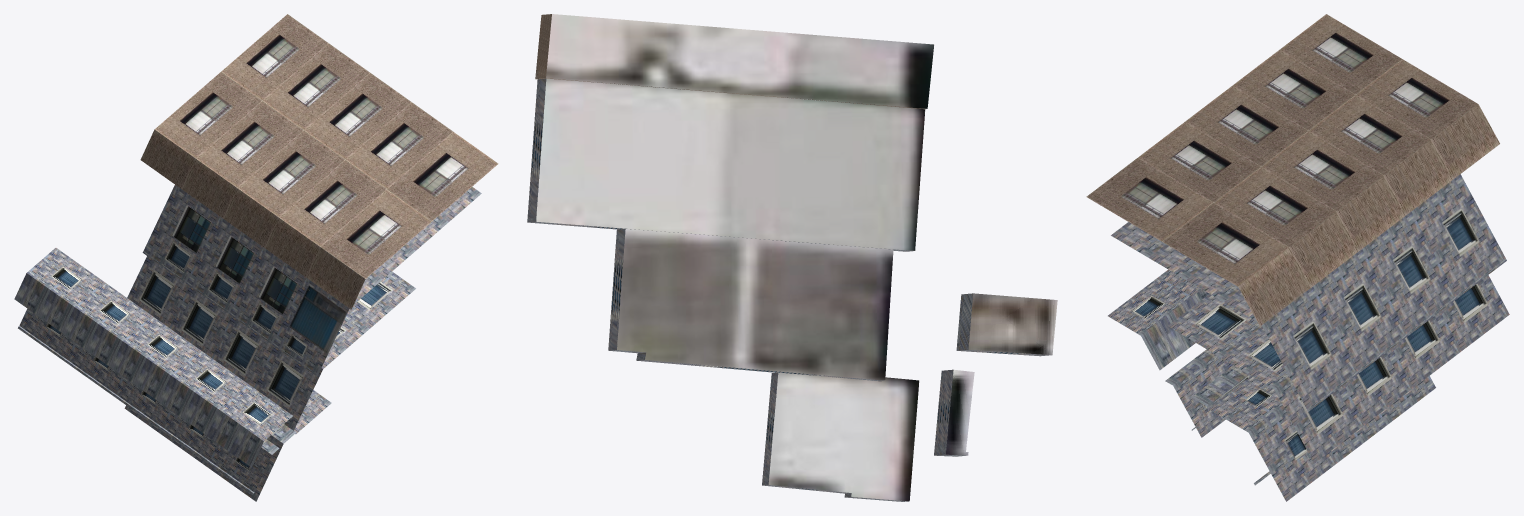
3 views of the same model, side by side, from view 1: azimuth 30°, elevation 25°; view 2: azimuth 150°, elevation 25°; view 3: azimuth 270°, elevation 25° (orthographic). The views are drawn at different scales.
Size of the model in its own units: 28.18 by 24.39 by 21.
Materials: 23 (23 with a texture image).
